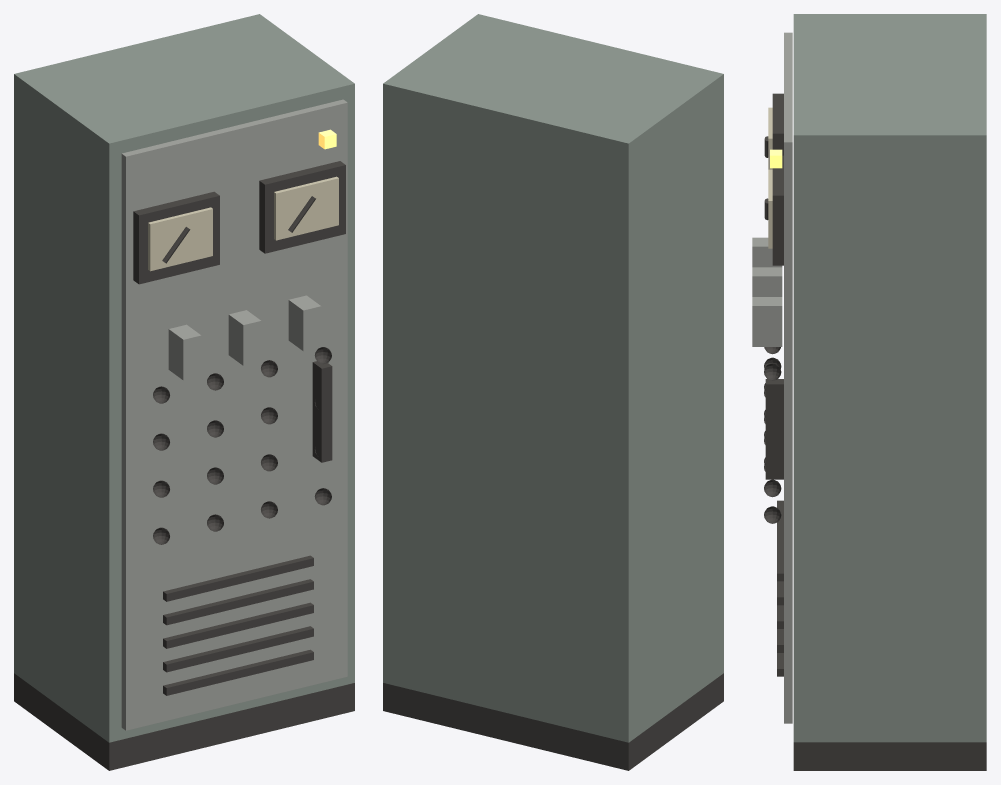
The model's file is signal-house-analogue-relay-switchboard__199.glb.
3 renders of one model, left to right at view 1: azimuth 30°, elevation 25°; view 2: azimuth 150°, elevation 25°; view 3: azimuth 270°, elevation 25°, orthographic.
Parts seen in each view (by area): view 1: metal, shell, dark, paper; view 2: shell, dark; view 3: shell, dark, metal, paper.
Part boxes in pixels (<box>): metal: <box>121,99,347,730</box>; shell: <box>14,14,354,742</box>; dark: <box>14,161,354,770</box>; paper: <box>148,176,338,271</box>; shell: <box>383,14,723,742</box>; dark: <box>383,673,723,770</box>; shell: <box>793,14,986,742</box>; dark: <box>764,93,986,770</box>; metal: <box>752,32,792,723</box>; paper: <box>768,107,772,248</box>.
Bounding box in the file's own units: 0.82 × 2 × 0.6675.
